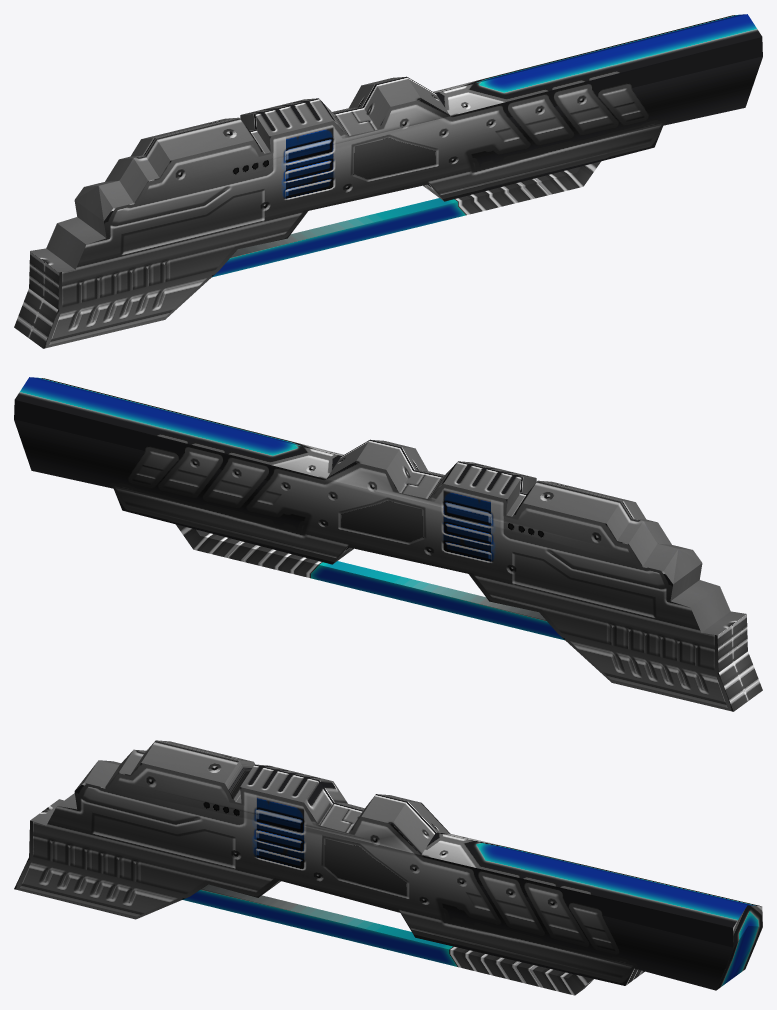
File: Electric_gun.FBX
3 views of the same model, one above another, from view 1: azimuth 30°, elevation 25°; view 2: azimuth 150°, elevation 25°; view 3: azimuth 330°, elevation 25° (orthographic).
Parts seen in each view (by area): view 1: Electri_gun; view 2: Electri_gun; view 3: Electri_gun.
Part boxes in pixels (bbox=[...]): Electri_gun: bbox=[14, 14, 762, 348]; Electri_gun: bbox=[14, 377, 762, 711]; Electri_gun: bbox=[14, 740, 762, 995].
Size of the model in its own units: 356 by 80.18 by 25.08.
